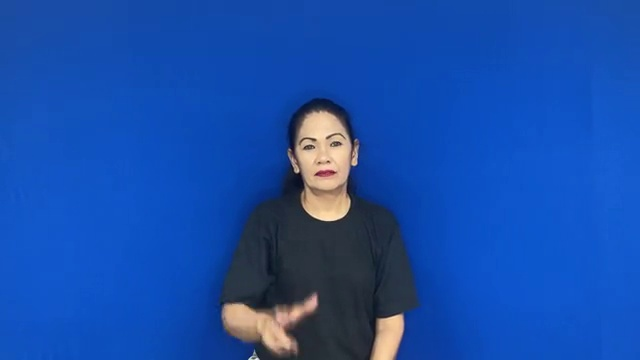chicken: (250, 292, 333, 360)
